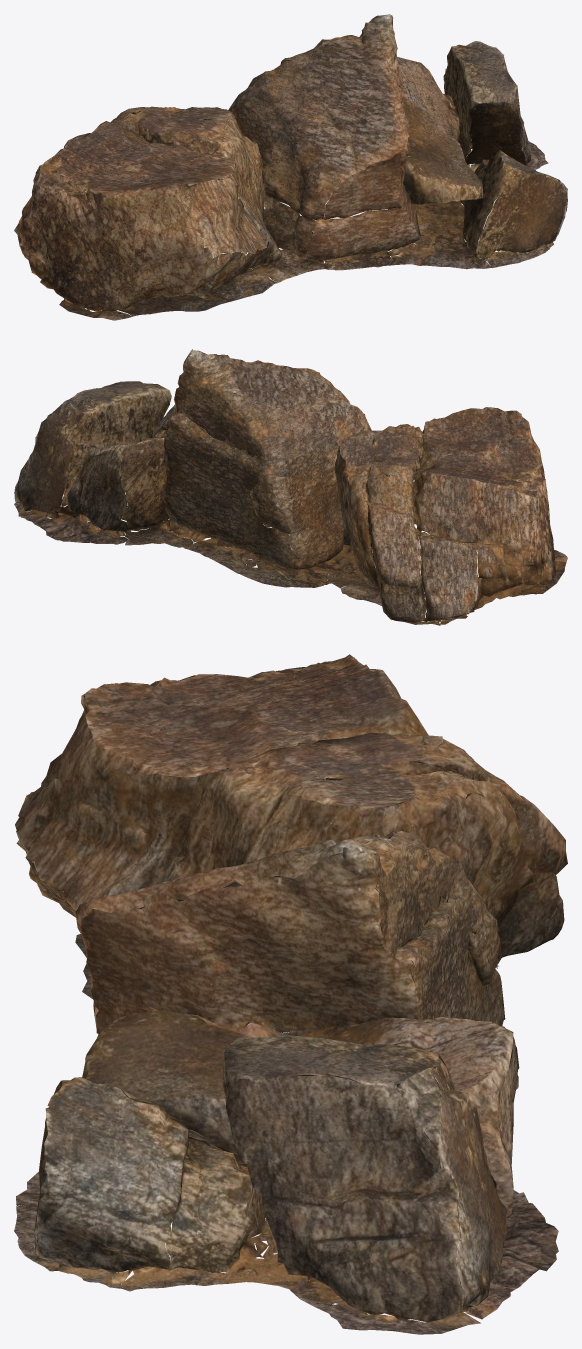
Rendered from pedra_a.glb.
3 renders of one model, top to bottom at view 1: azimuth 30°, elevation 25°; view 2: azimuth 150°, elevation 25°; view 3: azimuth 270°, elevation 25°, orthographic. The views are drawn at different scales.
Parts seen in each view (by area): view 1: pedra_a; view 2: pedra_a; view 3: pedra_a.
Part boxes in pixels (bbox=[...]): pedra_a: bbox=[14, 14, 567, 320]; pedra_a: bbox=[14, 349, 567, 625]; pedra_a: bbox=[14, 654, 567, 1334].
Size of the model in its own units: 2.53 by 0.8801 by 1.23.
1 material, 1 textured.
